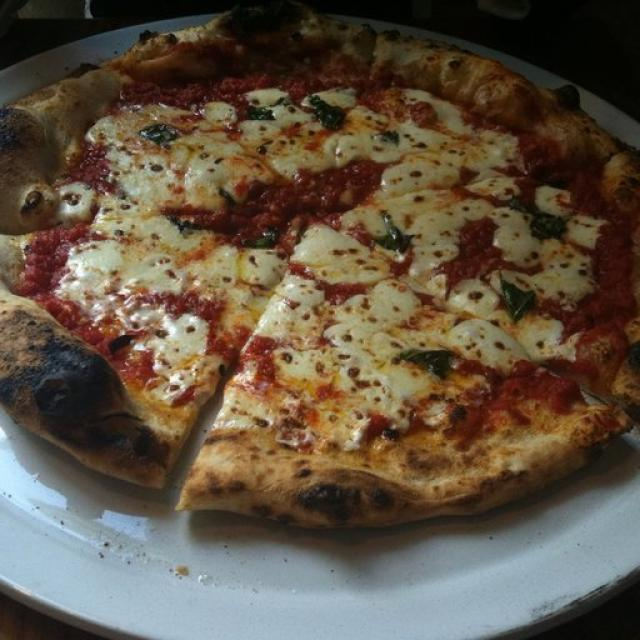Basil: (518, 200, 566, 240), (400, 347, 453, 374), (502, 282, 532, 319), (314, 97, 343, 129), (144, 125, 184, 144), (242, 230, 275, 249), (243, 105, 270, 118)
Pizza: (0, 0, 640, 528)
